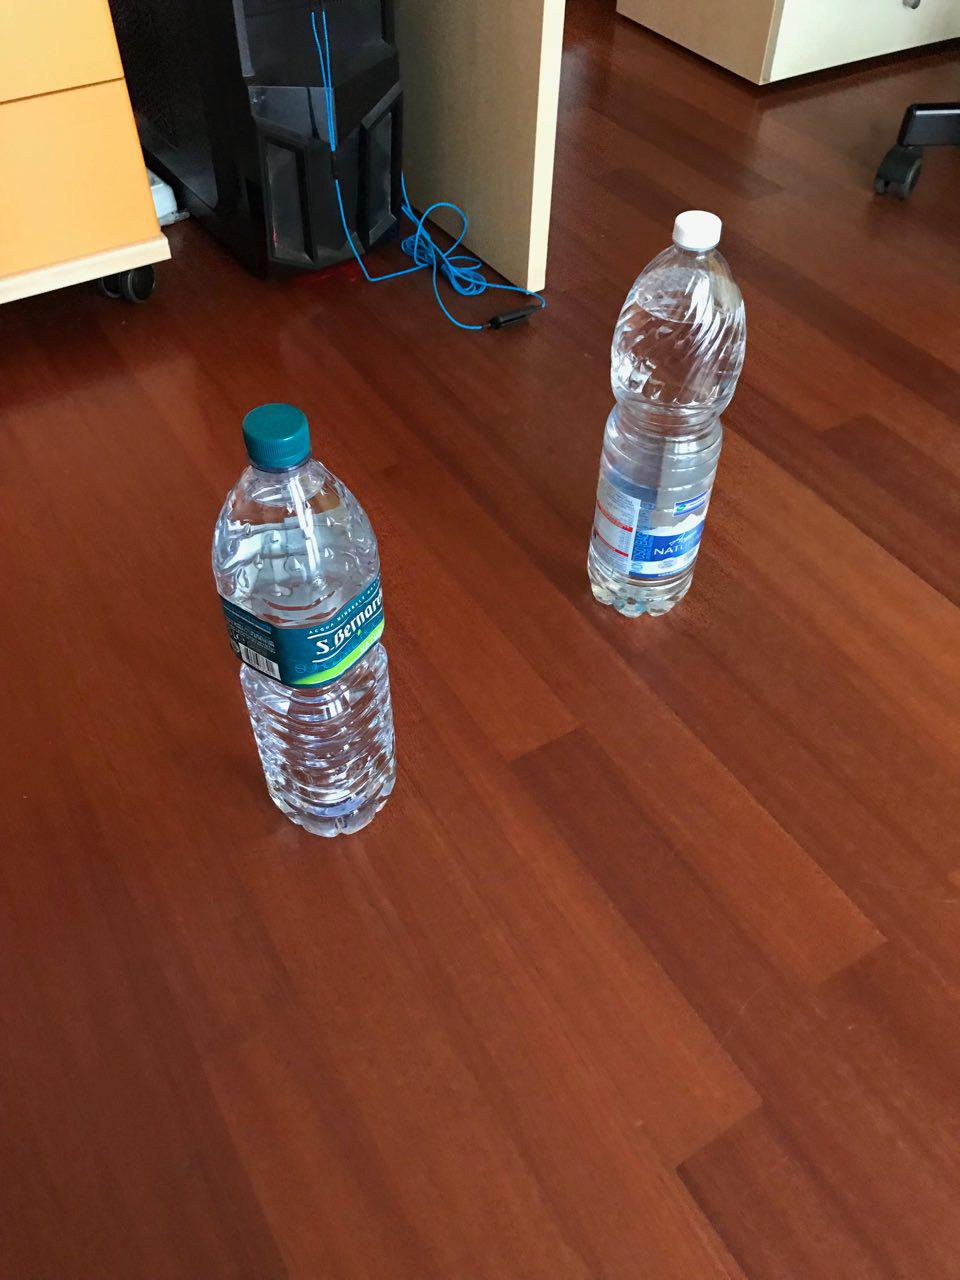san_bernardo: (210, 401, 399, 840)
